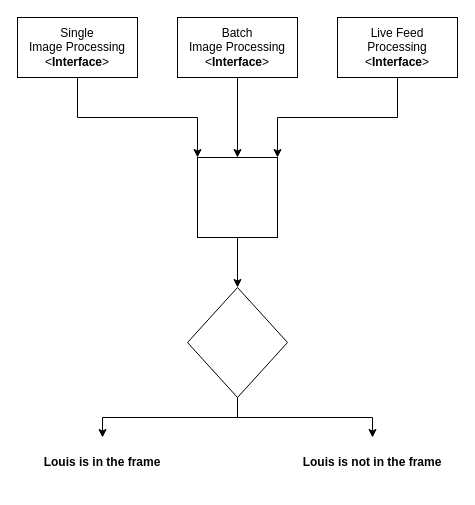
Image size: 475x505. Some labels were removed from this diagram. The centre of each missing label's shape, as x and y in pixels:
"Image Processing Pipeline" goes at (237,197).
"Louis Detector < Classifier>" goes at (237,342).
